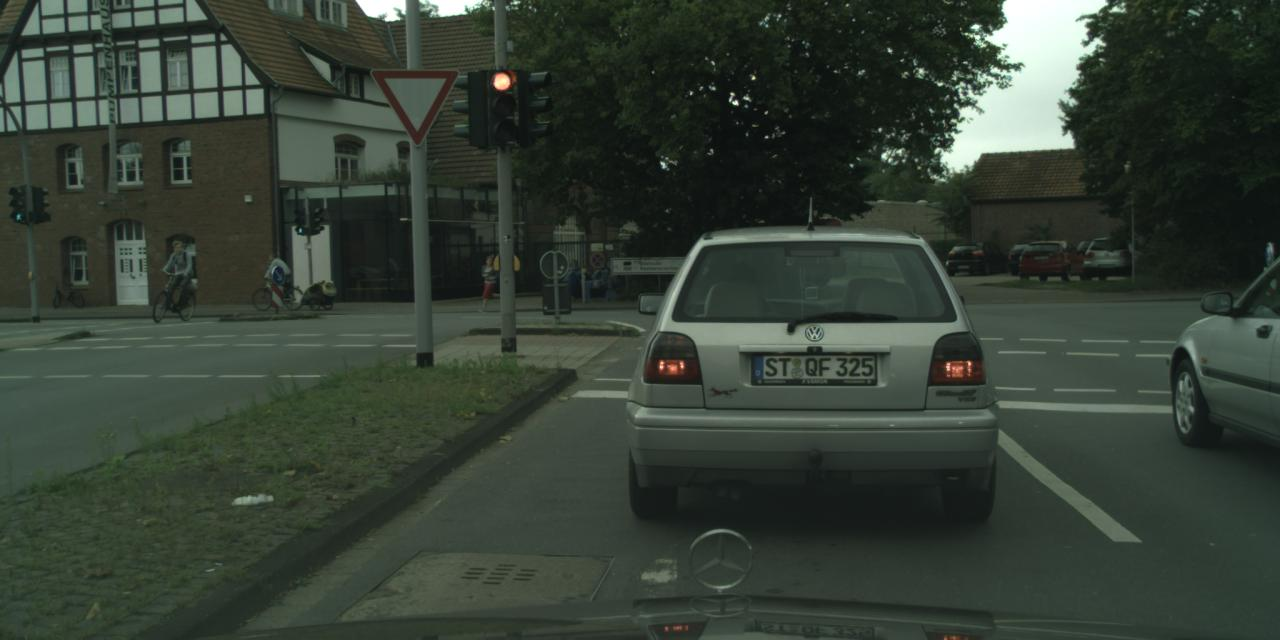ped: (160, 240, 188, 308), (481, 256, 501, 306), (265, 252, 284, 300)
